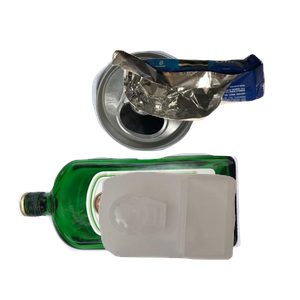glass: (14, 150, 247, 300)
metal: (89, 48, 276, 192)
plastic: (96, 169, 300, 300)
trash: (109, 47, 300, 160)
